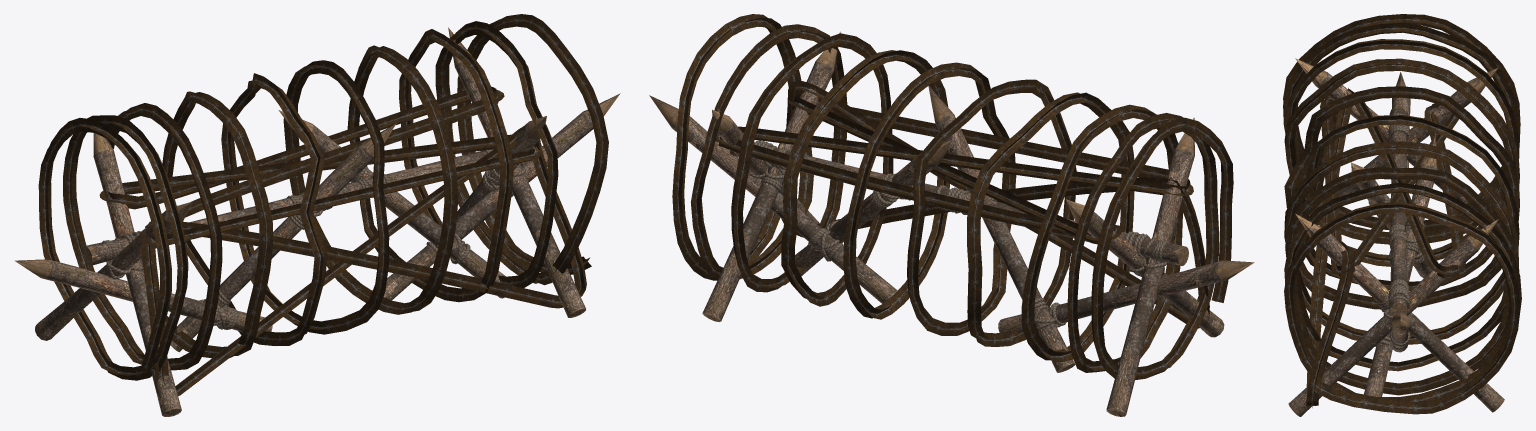
Rendered from Wood_Obstacles_03.FBX.
The picture shows the model from 3 angles, left to right: view 1: azimuth 30°, elevation 25°; view 2: azimuth 150°, elevation 25°; view 3: azimuth 270°, elevation 25°; orthographic projection. The views are drawn at different scales.
Parts seen in each view (by area): view 1: Wood_Obstacles_Wire_03, Wood_Obstacles_03; view 2: Wood_Obstacles_Wire_03, Wood_Obstacles_03; view 3: Wood_Obstacles_Wire_03, Wood_Obstacles_03.
Boxes of the visible parts, x1,y1,x2,y2 form: Wood_Obstacles_Wire_03: [38, 14, 608, 396]; Wood_Obstacles_03: [14, 27, 620, 416]; Wood_Obstacles_Wire_03: [672, 14, 1233, 379]; Wood_Obstacles_03: [649, 31, 1254, 416]; Wood_Obstacles_Wire_03: [1283, 14, 1521, 414]; Wood_Obstacles_03: [1288, 58, 1504, 416].
Size of the model in its own units: 506 by 204 by 193.
